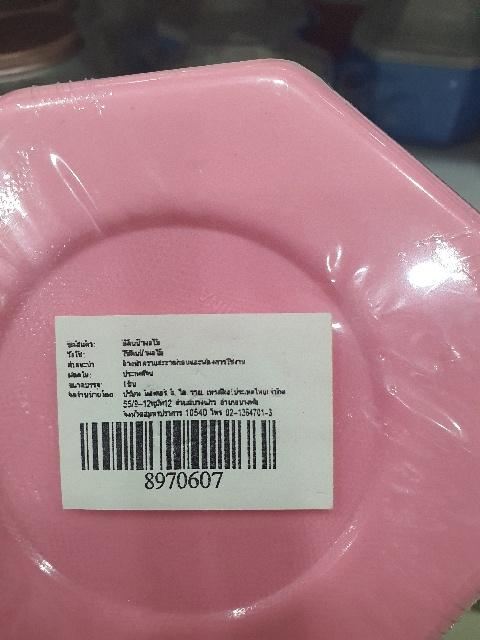Barcode: (70, 412, 291, 495)
